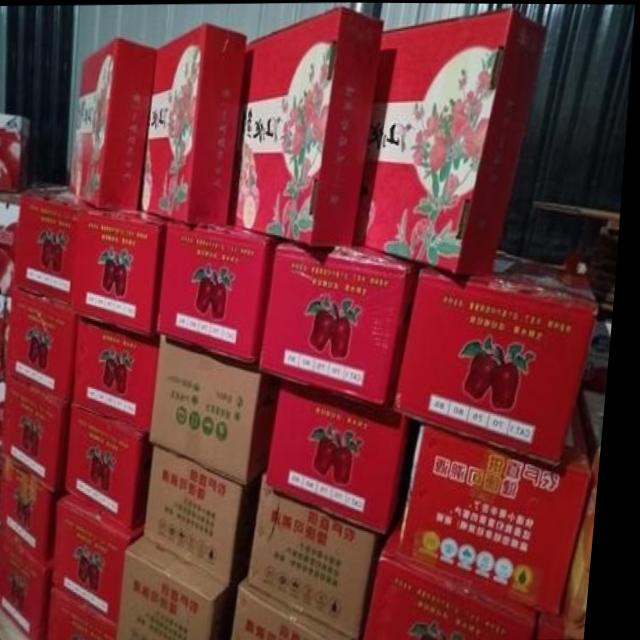box: (357, 5, 547, 273), (401, 250, 605, 466), (407, 406, 600, 615), (231, 2, 385, 246), (264, 239, 424, 405), (274, 379, 427, 531), (258, 471, 395, 640), (142, 20, 247, 223), (373, 521, 548, 640), (156, 333, 286, 484), (162, 218, 288, 359), (153, 445, 269, 583), (72, 35, 158, 207), (127, 536, 251, 640), (78, 206, 172, 338), (63, 496, 152, 625), (74, 402, 160, 531), (572, 388, 613, 638), (81, 318, 162, 432), (19, 189, 94, 303), (6, 377, 79, 494), (14, 288, 85, 402), (241, 579, 364, 640), (3, 532, 62, 640), (8, 464, 68, 559), (55, 588, 128, 640), (0, 111, 33, 193), (0, 191, 24, 292), (589, 321, 617, 389), (0, 292, 12, 379), (8, 295, 19, 379), (546, 610, 574, 639), (0, 378, 13, 432), (610, 321, 618, 337)
